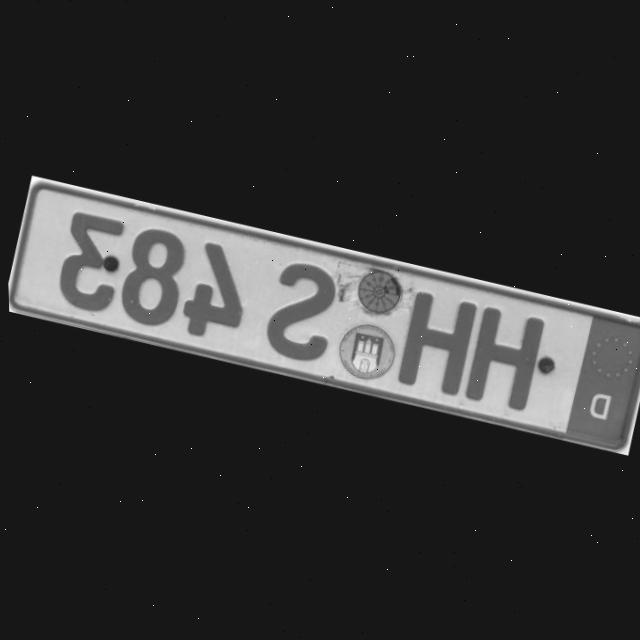license-plates: (8, 178, 640, 454)
